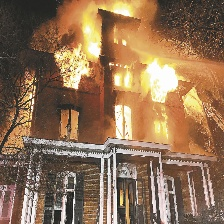fire: (55, 1, 181, 143)
